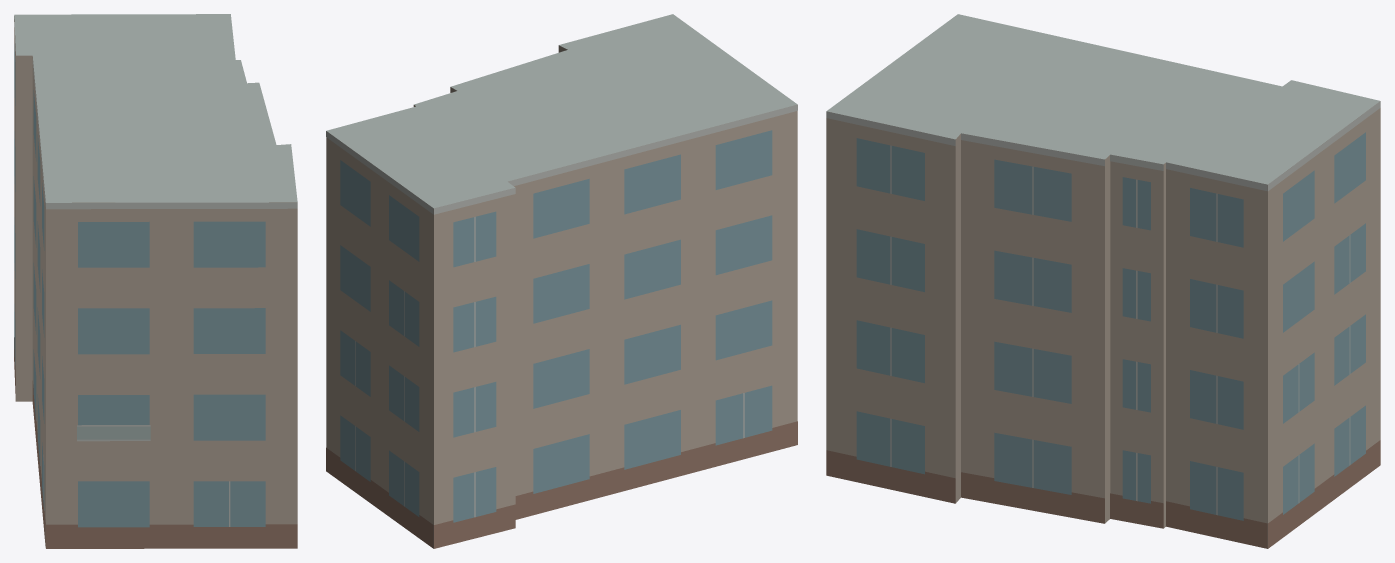
File: survey-upis-32705788.glb
The picture shows the model from 3 angles, left to right: view 1: azimuth 30°, elevation 25°; view 2: azimuth 150°, elevation 25°; view 3: azimuth 270°, elevation 25°; orthographic projection. The views are drawn at different scales.
Visible parts, largest first — view 1: survey-upis-32705788.tmp; view 2: survey-upis-32705788.tmp; view 3: survey-upis-32705788.tmp.
Part boxes in pixels (<box>): survey-upis-32705788.tmp: <box>14,14,297,548</box>; survey-upis-32705788.tmp: <box>326,14,797,548</box>; survey-upis-32705788.tmp: <box>826,14,1380,548</box>.
Bounding box in the file's own units: 13.27 × 13.2 × 18.21.
